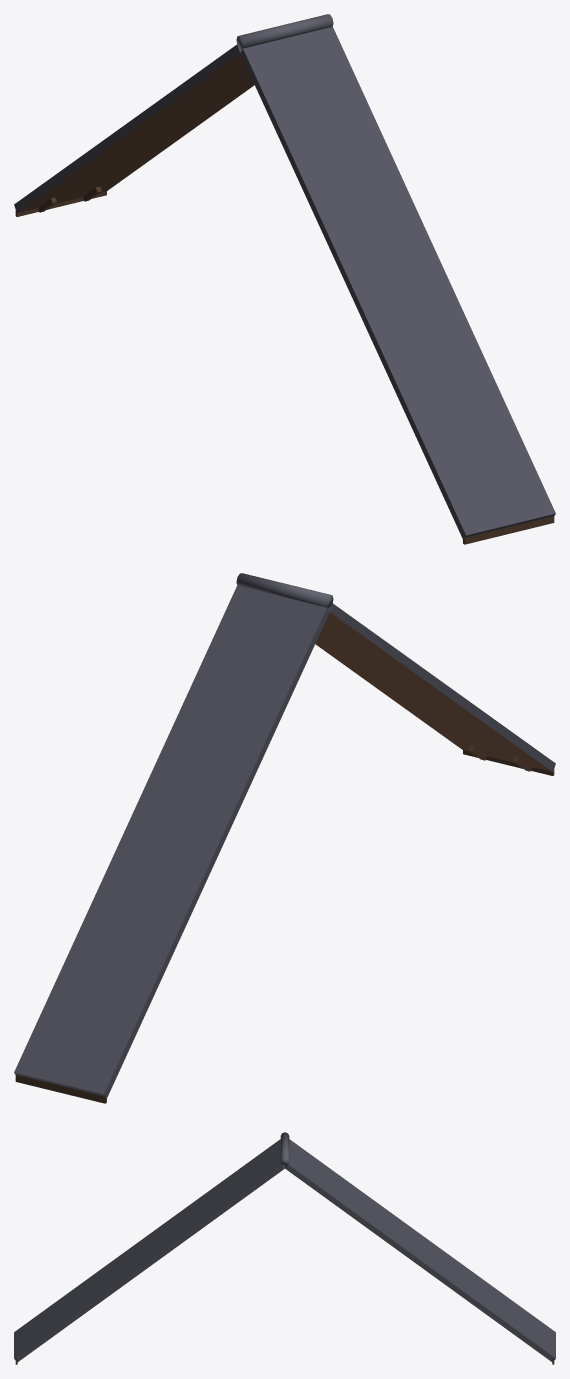
The model's file is kit_church_slate_w8.glb.
3 views of the same model, one above another, from view 1: azimuth 30°, elevation 25°; view 2: azimuth 150°, elevation 25°; view 3: azimuth 270°, elevation 25° (orthographic). The views are drawn at different scales.
Visible parts, largest first — view 1: kit_church_slate_w8; view 2: kit_church_slate_w8; view 3: kit_church_slate_w8.
Boxes of the visible parts, box(x1,y1,x2,y2) form: kit_church_slate_w8: box(14, 14, 555, 544); kit_church_slate_w8: box(14, 573, 555, 1103); kit_church_slate_w8: box(14, 1132, 555, 1364).
Size of the model in its own units: 1 by 3.66 by 8.71.
